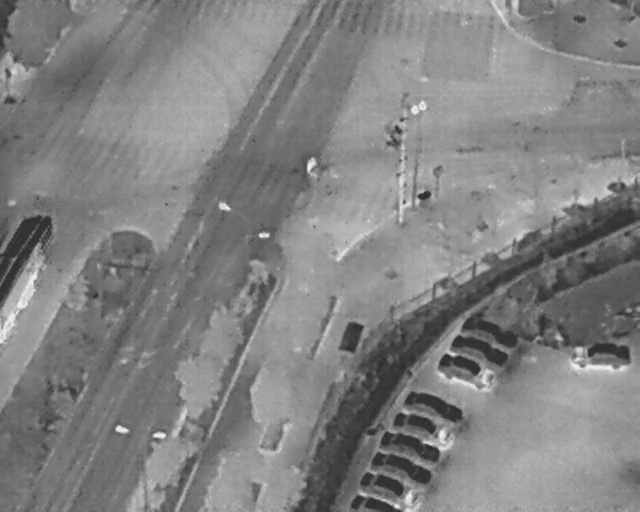Bicycle: (303, 153, 322, 180)
Car: (353, 464, 425, 511), (432, 348, 501, 396), (374, 424, 446, 470), (367, 445, 439, 491), (400, 384, 470, 430), (389, 404, 458, 449), (456, 310, 524, 355), (447, 328, 515, 372), (571, 341, 632, 370), (349, 493, 407, 510)
OtherVehicle: (0, 203, 56, 351)
